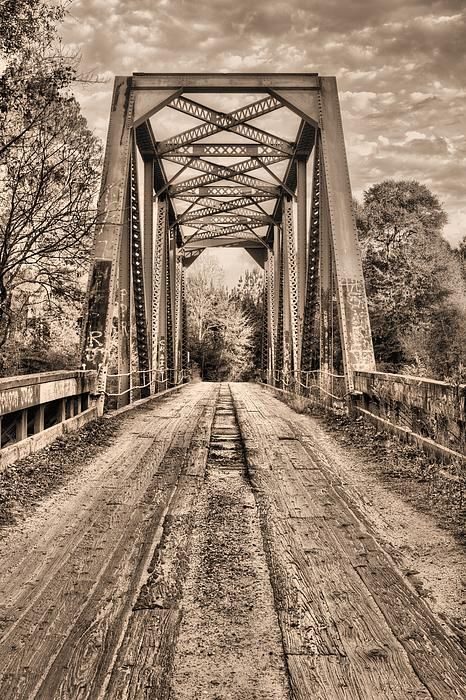bridge: (79, 69, 379, 423)
